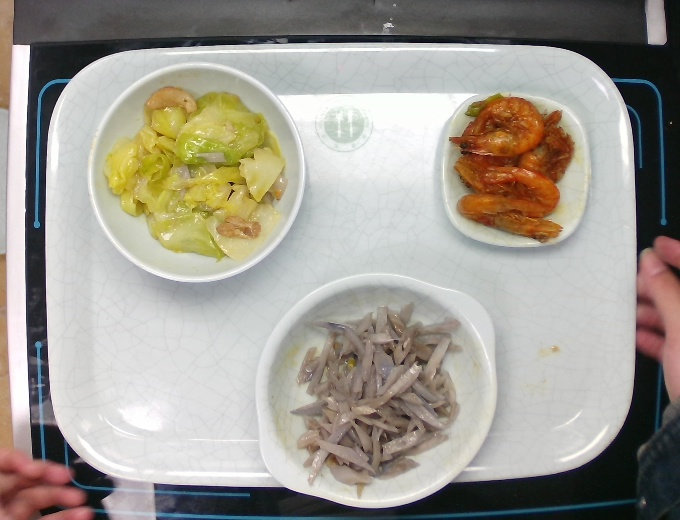JYsf-Fan_Wan: (82, 59, 312, 289)
JYsf-Shuang_Er_Wan: (250, 269, 504, 514)
JYsf-Si_Fang_Die: (437, 88, 597, 252)
